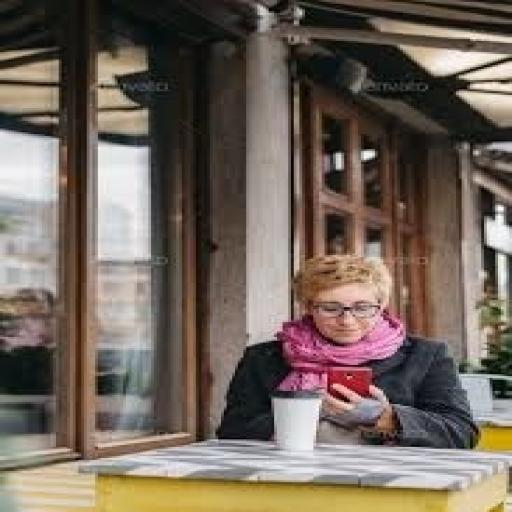texting: (213, 252, 481, 450)
